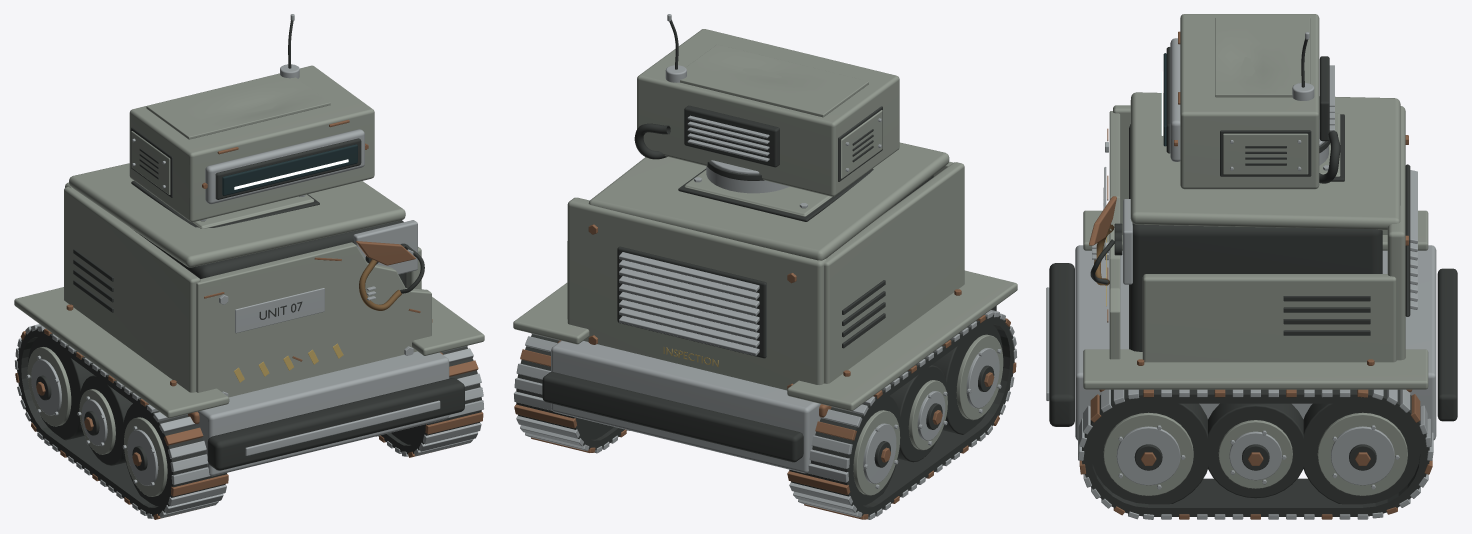
The model's file is RustGuard.fbx.
The picture shows the model from 3 angles, left to right: view 1: azimuth 30°, elevation 25°; view 2: azimuth 150°, elevation 25°; view 3: azimuth 270°, elevation 25°; orthographic projection. The views are drawn at different scales.
Parts seen in each view (by area): view 1: RustGuard_Paint, RustGuard_Steel, RustGuard_Rubber, RustGuard_Rust, RustGuard_Glass, RustGuard_Wire; view 2: RustGuard_Paint, RustGuard_Steel, RustGuard_Rubber, RustGuard_Rust; view 3: RustGuard_Paint, RustGuard_Rubber, RustGuard_Steel, RustGuard_Rust.
Part boxes in pixels (box(x1,y1,x2,y2)): RustGuard_Paint: box(14, 65, 484, 496); RustGuard_Steel: box(15, 14, 483, 518); RustGuard_Rubber: box(17, 20, 481, 516); RustGuard_Rust: box(15, 119, 483, 519); RustGuard_Glass: box(222, 144, 357, 195); RustGuard_Wire: box(359, 259, 401, 310); RustGuard_Paint: box(513, 29, 1017, 495); RustGuard_Steel: box(514, 14, 1016, 519); RustGuard_Rubber: box(516, 20, 1014, 516); RustGuard_Rust: box(514, 224, 1016, 519); RustGuard_Paint: box(1083, 14, 1428, 495); RustGuard_Rubber: box(1049, 38, 1457, 516); RustGuard_Steel: box(1046, 32, 1436, 519); RustGuard_Rust: box(1079, 31, 1432, 519).
Bounding box in the file's own units: 105 × 122 × 104.
